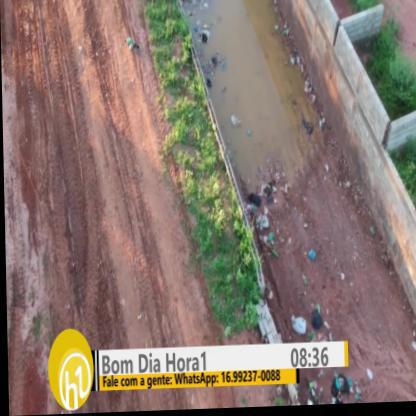agua: (208, 0, 319, 188)
